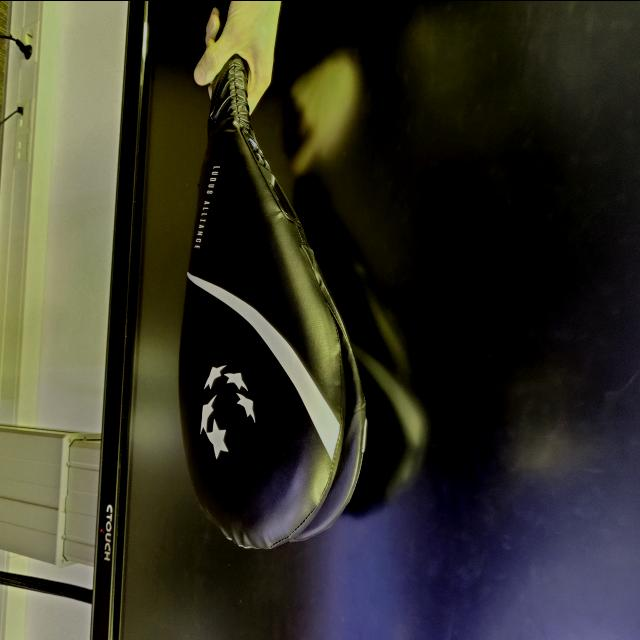paddle: (177, 64, 371, 554)
